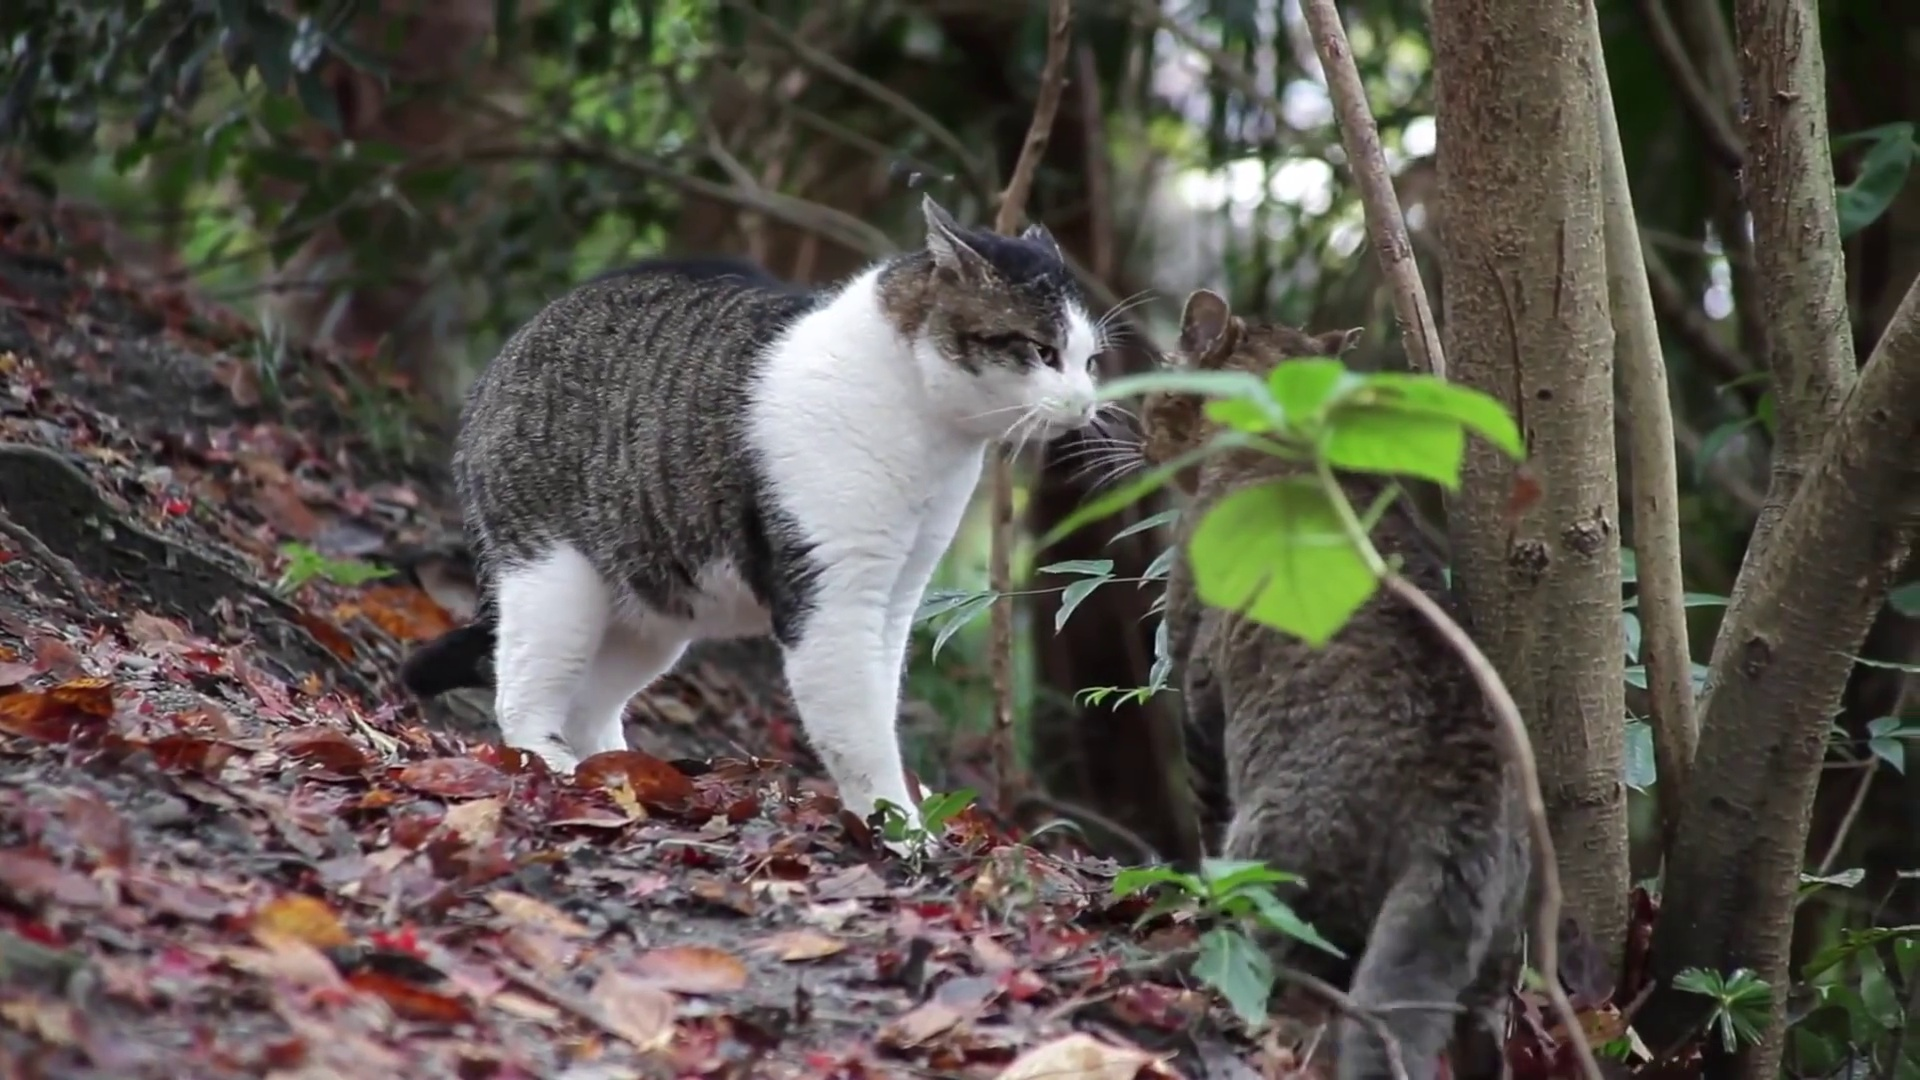black-white: (400, 193, 1106, 861)
pure black: (1139, 287, 1524, 1080)
